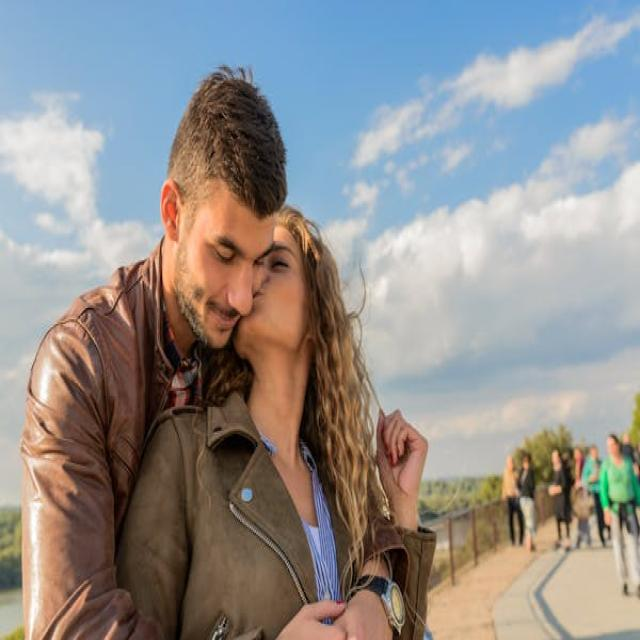Real human 2: (16, 54, 458, 640)
